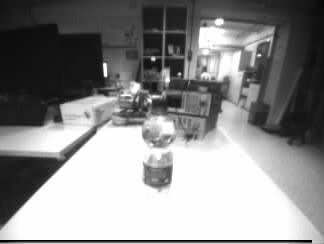Bottle: (143, 100, 174, 194)
